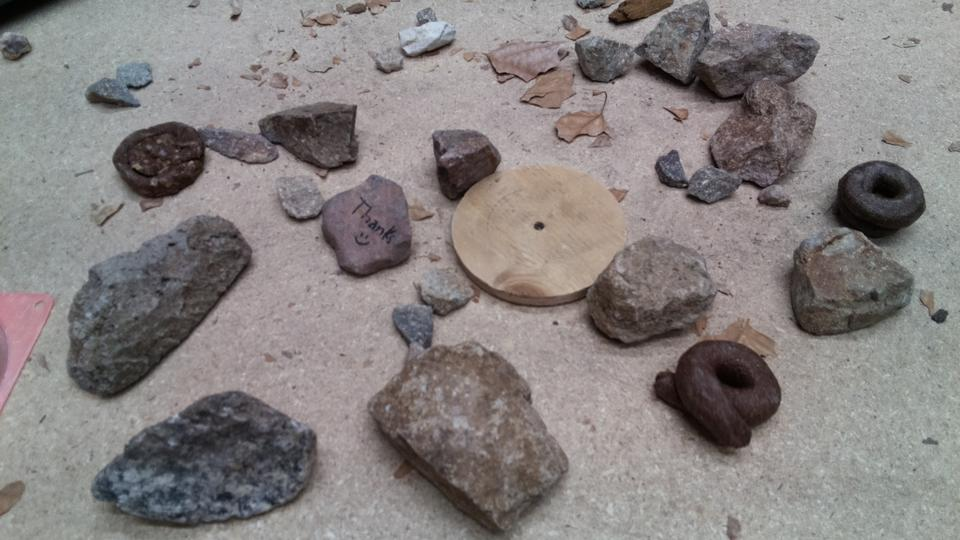poop: (657, 338, 785, 451), (110, 119, 206, 199), (834, 159, 928, 239)
